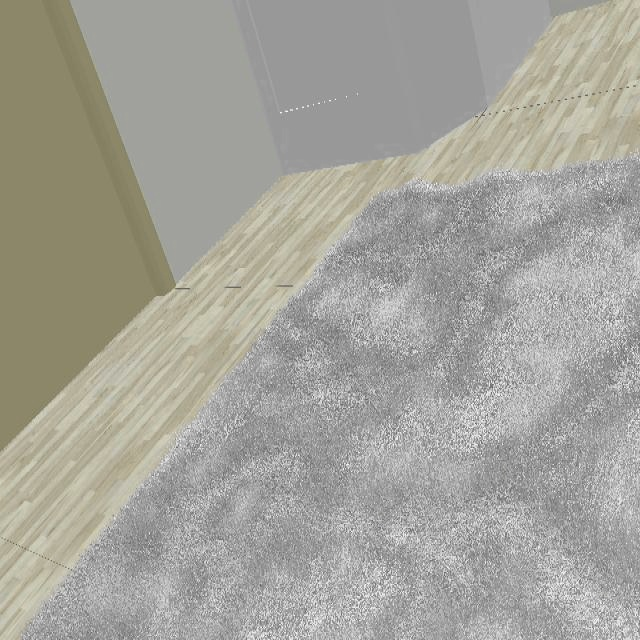shower: (231, 0, 555, 175)
